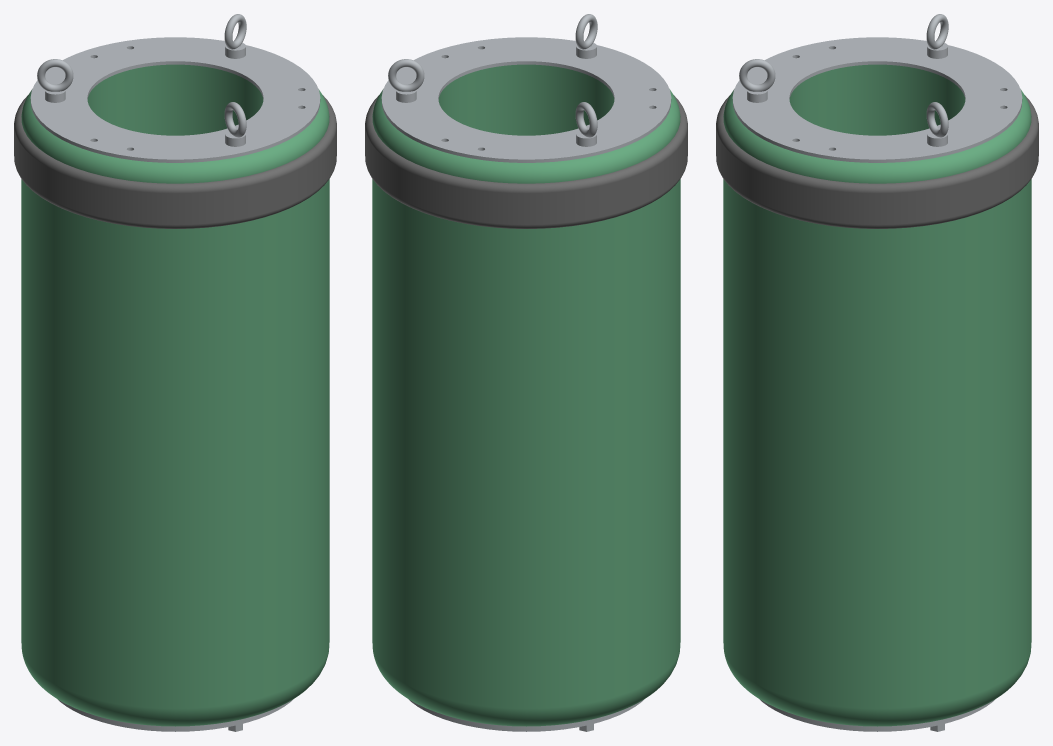
Rendered from step_01.glb.
3 views of the same model, side by side, from view 1: azimuth 30°, elevation 25°; view 2: azimuth 150°, elevation 25°; view 3: azimuth 270°, elevation 25° (orthographic).
Visible parts, largest first — view 1: part__float hull, part__deck plate, part__fender ring, part__keel plate, part__lifting eye nut 2, part__lifting eye nut 3, part__lifting eye nut 1; view 2: part__float hull, part__deck plate, part__fender ring, part__keel plate, part__lifting eye nut 1, part__lifting eye nut 2, part__lifting eye nut 3; view 3: part__float hull, part__deck plate, part__fender ring, part__keel plate, part__lifting eye nut 3, part__lifting eye nut 1, part__lifting eye nut 2.
Part boxes in pixels (bbox=[...]): part__float hull: bbox=[21, 64, 329, 726]; part__deck plate: bbox=[30, 37, 320, 162]; part__fender ring: bbox=[14, 95, 336, 228]; part__keel plate: bbox=[58, 699, 292, 731]; part__lifting eye nut 2: bbox=[37, 59, 73, 102]; part__lifting eye nut 3: bbox=[224, 102, 246, 146]; part__lifting eye nut 1: bbox=[224, 14, 246, 58]; part__float hull: bbox=[372, 64, 680, 726]; part__deck plate: bbox=[381, 37, 671, 162]; part__fender ring: bbox=[365, 95, 687, 228]; part__keel plate: bbox=[409, 699, 643, 731]; part__lifting eye nut 1: bbox=[388, 59, 424, 102]; part__lifting eye nut 2: bbox=[575, 102, 597, 146]; part__lifting eye nut 3: bbox=[575, 14, 597, 58]; part__float hull: bbox=[723, 64, 1031, 726]; part__deck plate: bbox=[732, 37, 1022, 162]; part__fender ring: bbox=[716, 95, 1038, 228]; part__keel plate: bbox=[759, 699, 994, 731]; part__lifting eye nut 3: bbox=[739, 59, 775, 102]; part__lifting eye nut 1: bbox=[926, 102, 948, 146]; part__lifting eye nut 2: bbox=[926, 14, 948, 58].
Size of the model in its own units: 524 by 1121 by 524.
